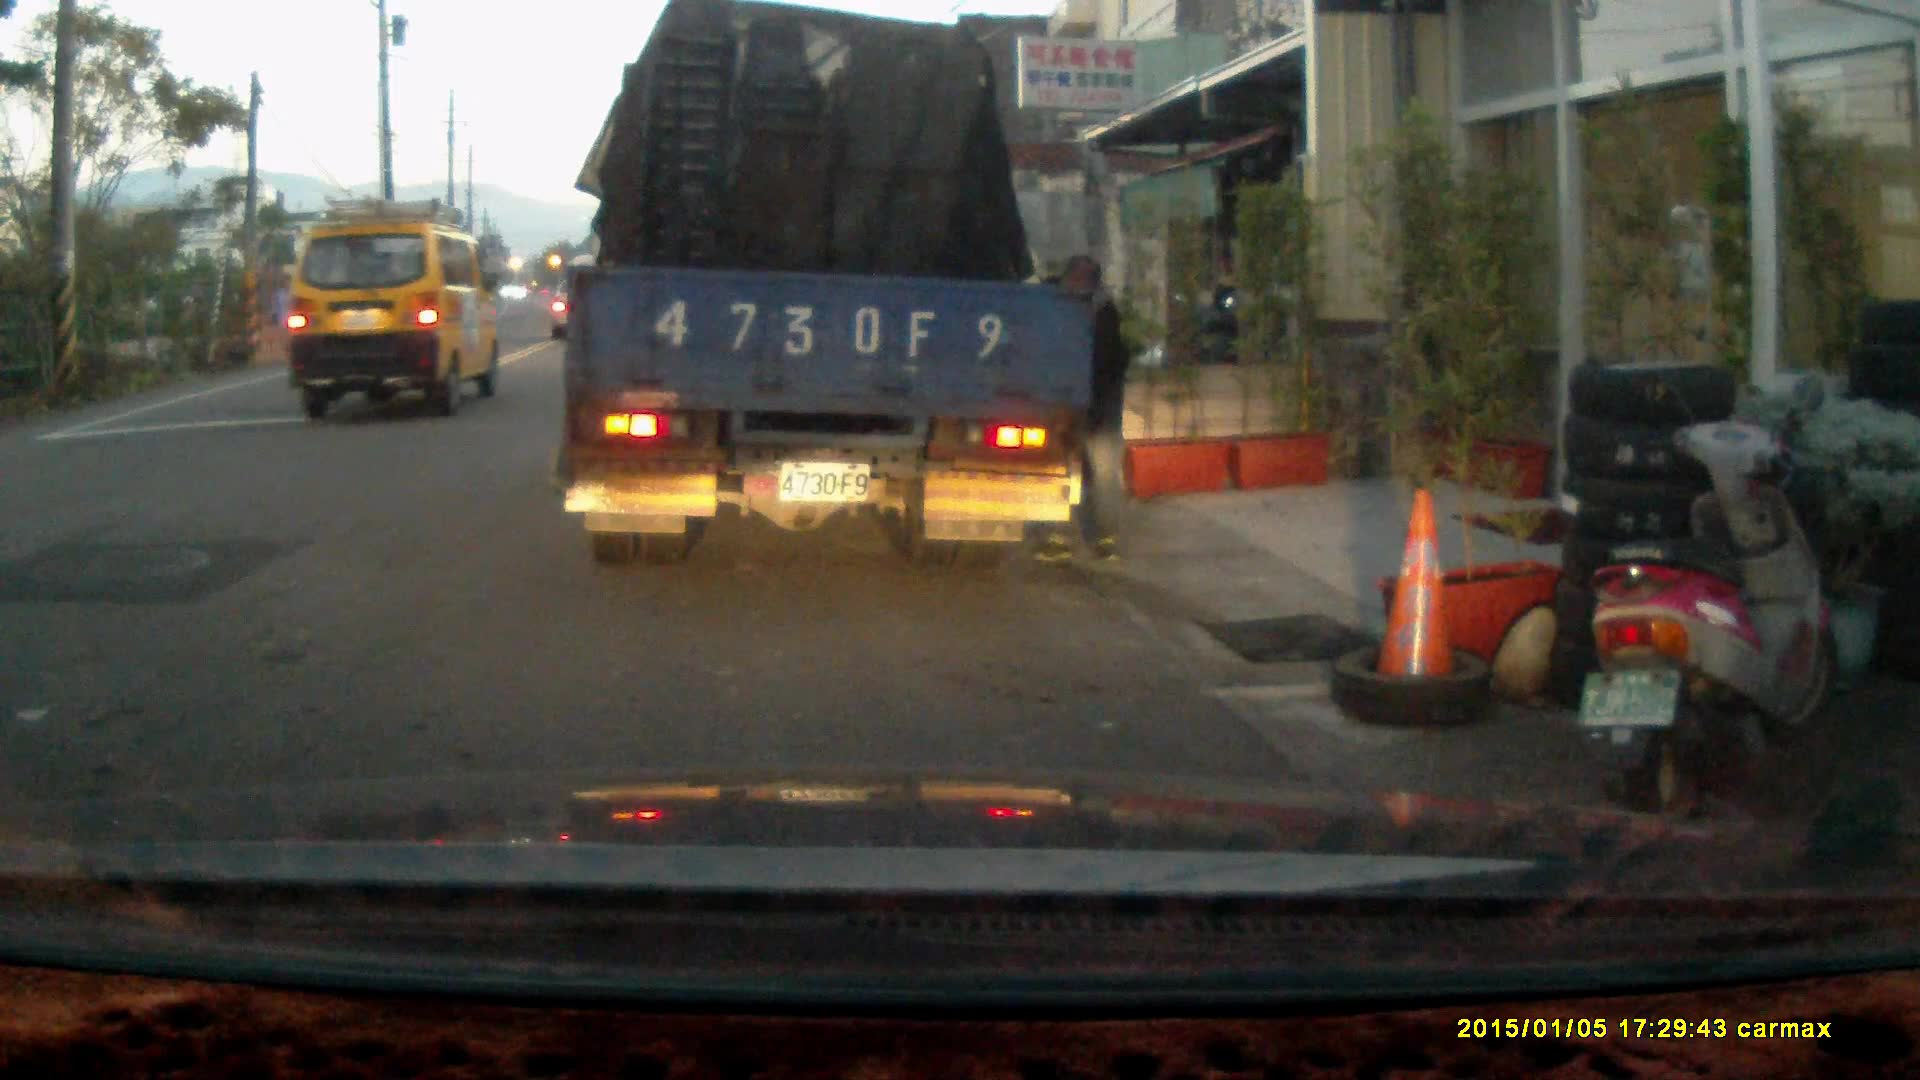pedestrian: (1023, 250, 1129, 565), (264, 276, 303, 369)
vehicle: (563, 24, 1090, 564), (279, 196, 506, 423)
